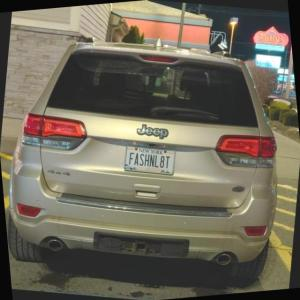Plate: (122, 143, 176, 175)
